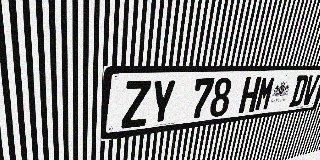7: (188, 78, 215, 120)
8: (209, 77, 234, 118)
D: (289, 75, 309, 107)
H: (238, 77, 262, 114)
M: (254, 76, 277, 112)
V: (300, 75, 320, 106)
Y: (148, 79, 177, 125)
Z: (121, 80, 151, 129)
